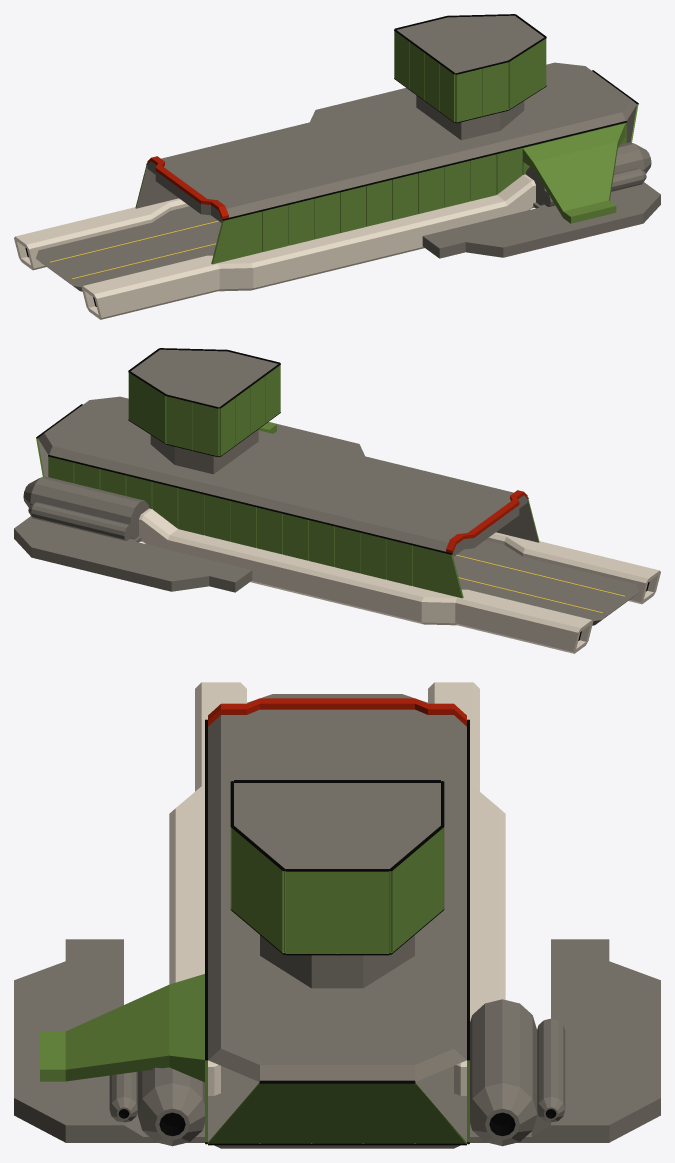
File: ShipTest2.glb
3 renders of one model, top to bottom at view 1: azimuth 30°, elevation 25°; view 2: azimuth 150°, elevation 25°; view 3: azimuth 270°, elevation 25°, orthographic. The views are drawn at different scales.
Visible parts, largest first — view 1: ShipBase; view 2: ShipBase; view 3: ShipBase.
Part boxes in pixels (x1,y1,x2,y2): ShipBase: (14, 14, 660, 319); ShipBase: (14, 348, 660, 653); ShipBase: (14, 682, 660, 1148).
Bounding box in the file's own units: 86.25 × 22.15 × 50.
